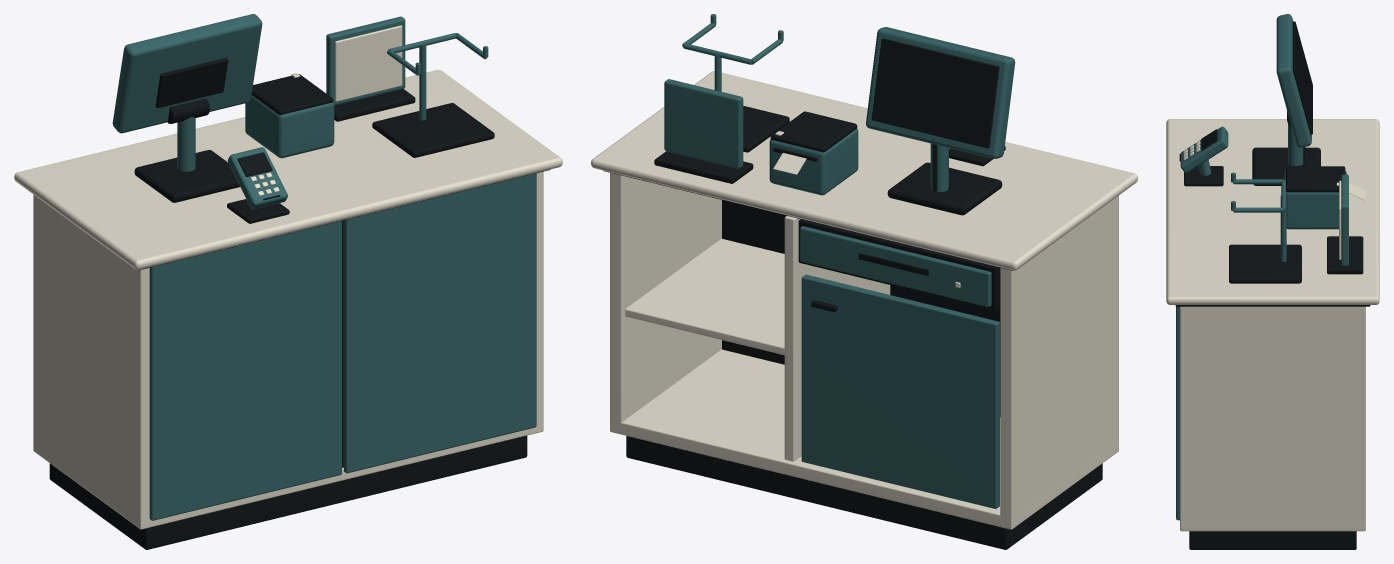
3 views of the same model, side by side, from view 1: azimuth 30°, elevation 25°; view 2: azimuth 150°, elevation 25°; view 3: azimuth 270°, elevation 25° (orthographic). The views are drawn at different scales.
Visible parts, largest first — view 1: Geometry_Muted_petrol_enamel, Geometry_Porcelain_laminate, Geometry_Graphite_satin; view 2: Geometry_Porcelain_laminate, Geometry_Muted_petrol_enamel, Geometry_Graphite_satin; view 3: Geometry_Porcelain_laminate, Geometry_Graphite_satin, Geometry_Muted_petrol_enamel.
Boxes of the visible parts, x1=… form: Geometry_Muted_petrol_enamel: x1=112, y1=14, x2=536, y2=520; Geometry_Porcelain_laminate: x1=14, y1=25, x2=562, y2=529; Geometry_Graphite_satin: x1=49, y1=58, x2=550, y2=549; Geometry_Porcelain_laminate: x1=591, y1=71, x2=1137, y2=529; Geometry_Muted_petrol_enamel: x1=664, y1=14, x2=1015, y2=508; Geometry_Graphite_satin: x1=603, y1=38, x2=1102, y2=549; Geometry_Porcelain_laminate: x1=1166, y1=119, x2=1379, y2=531; Geometry_Graphite_satin: x1=1175, y1=21, x2=1370, y2=549; Geometry_Muted_petrol_enamel: x1=1176, y1=14, x2=1348, y2=520.
Size of the model in its own units: 1.4 by 1.42 by 0.7.
